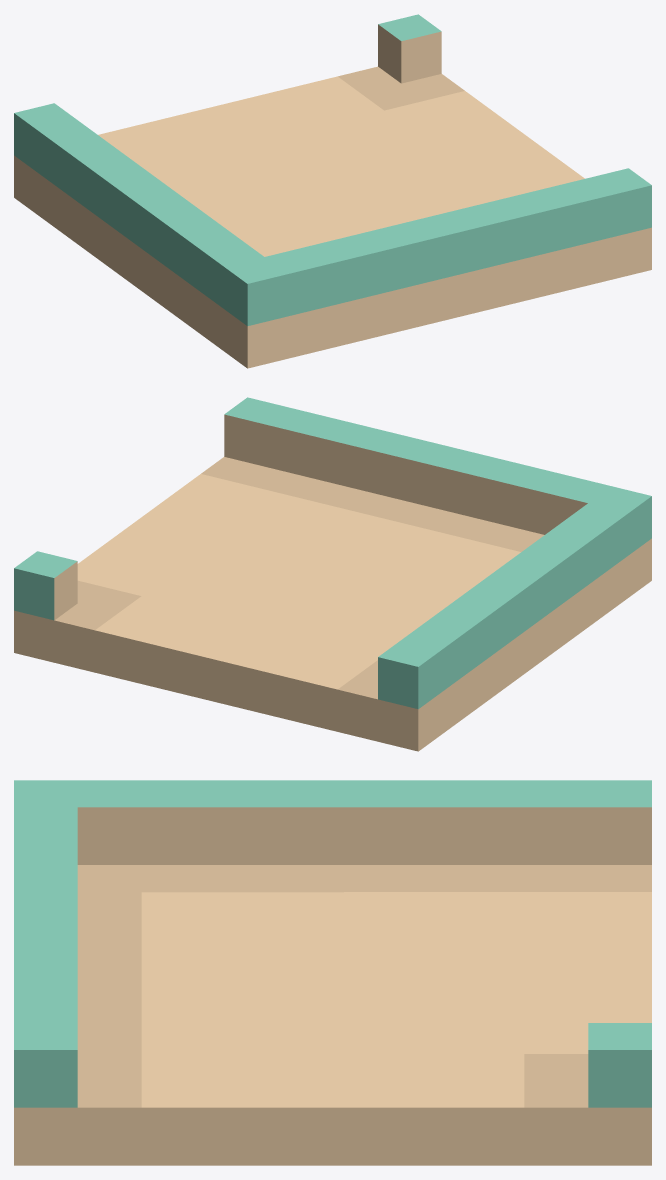
Rendered from Way_Corner.fbx.
3 views of the same model, one above another, from view 1: azimuth 30°, elevation 25°; view 2: azimuth 150°, elevation 25°; view 3: azimuth 270°, elevation 25° (orthographic). The views are drawn at different scales.
Parts seen in each view (by area): view 1: Way_Corner; view 2: Way_Corner; view 3: Way_Corner.
Boxes of the visible parts, x1=… form: Way_Corner: x1=14, y1=14, x2=651, y2=368; Way_Corner: x1=14, y1=397, x2=651, y2=751; Way_Corner: x1=14, y1=780, x2=651, y2=1165.
Size of the model in its own units: 1 by 0.2 by 1.
